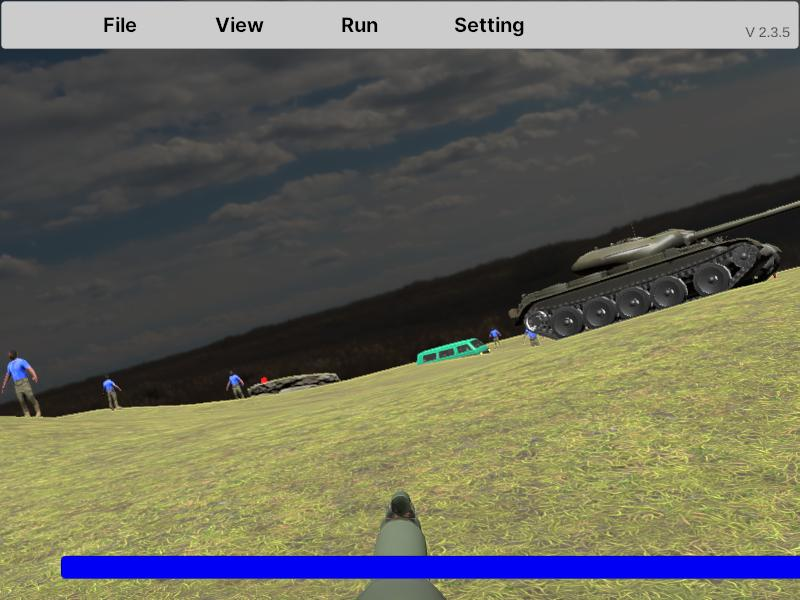Human: (1, 349, 44, 424), (2, 349, 43, 422)
Tank: (508, 186, 800, 341)
